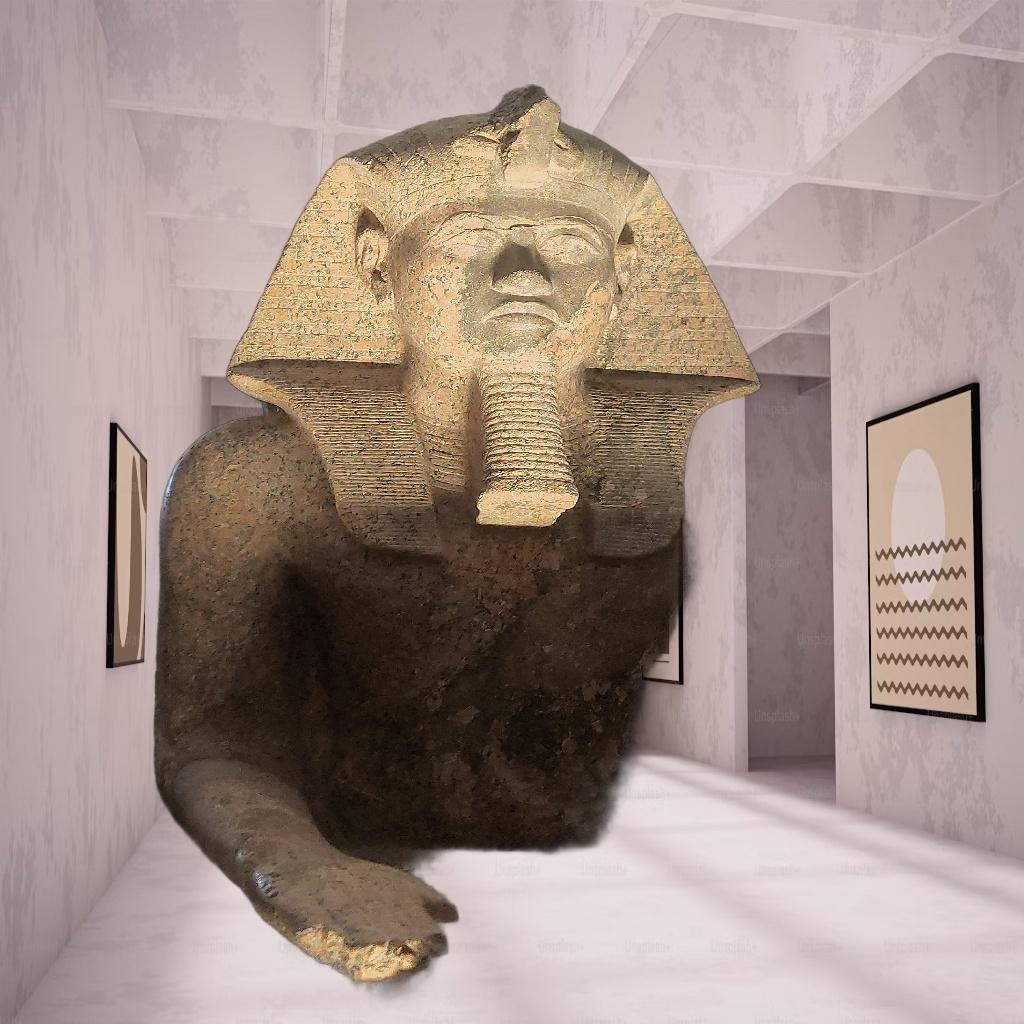Statue of Amenhotep III and God Re-Horakhty: (143, 76, 1024, 1022)
